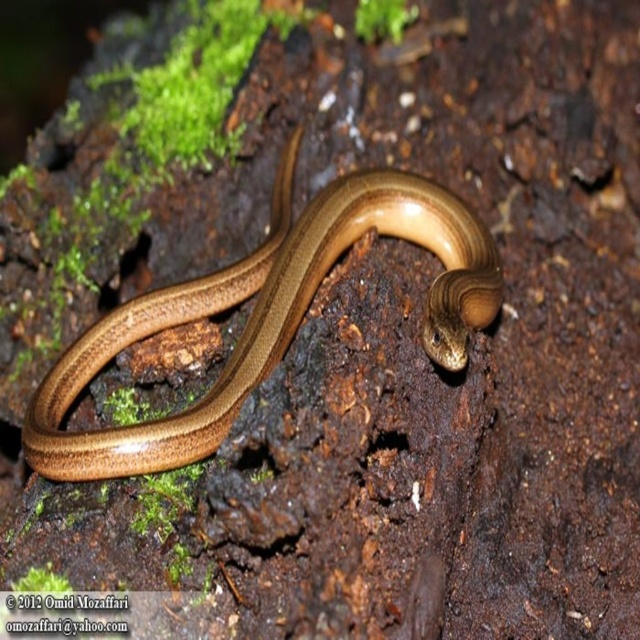Snake: (19, 123, 507, 483)
